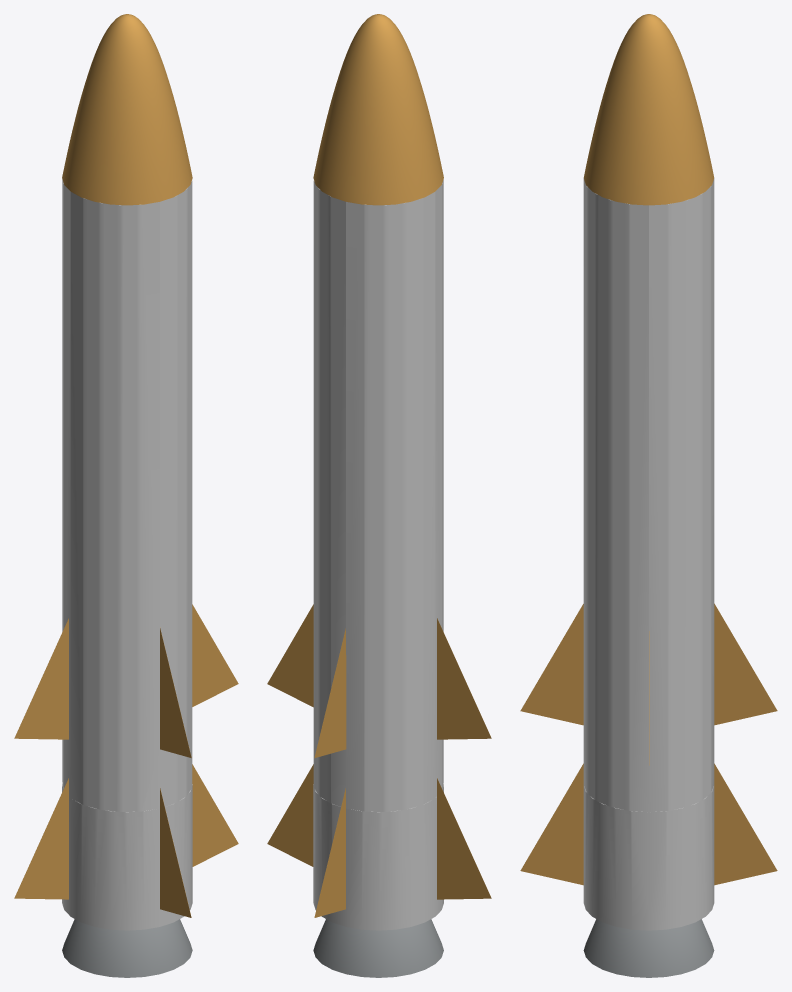
The model's file is ballistic_missile.glb.
The picture shows the model from 3 angles, left to right: view 1: azimuth 30°, elevation 25°; view 2: azimuth 150°, elevation 25°; view 3: azimuth 270°, elevation 25°; orthographic projection.
Parts seen in each view (by area): view 1: Mesh_Mesh_head_geo.001_lambert2SG.001_0; view 2: Mesh_Mesh_head_geo.001_lambert2SG.001_0; view 3: Mesh_Mesh_head_geo.001_lambert2SG.001_0.
Boxes of the visible parts, x1,y1,x2,y2 form: Mesh_Mesh_head_geo.001_lambert2SG.001_0: (14,14,238,977); Mesh_Mesh_head_geo.001_lambert2SG.001_0: (267,14,491,977); Mesh_Mesh_head_geo.001_lambert2SG.001_0: (520,14,777,977).
Bounding box in the file's own units: 19.85 × 79 × 19.7.
